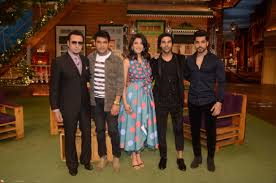Bad: (50, 30, 122, 177), (153, 31, 224, 172), (89, 31, 153, 172), (123, 32, 187, 171)
